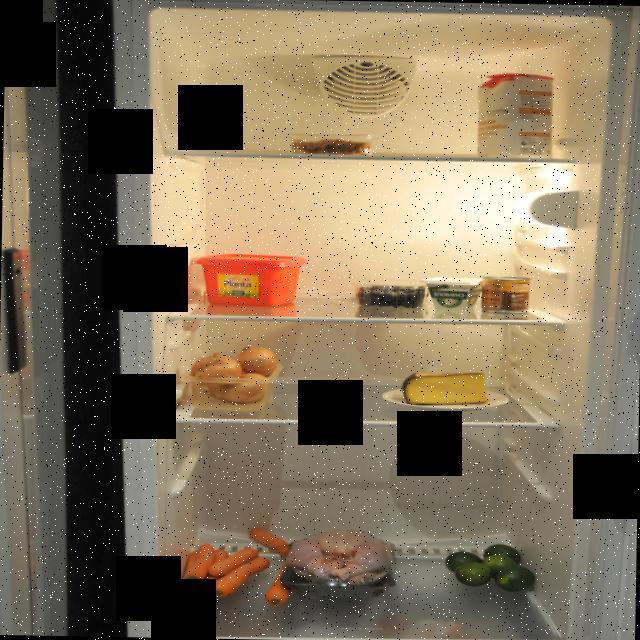blueberry: (357, 282, 427, 308)
butter: (194, 250, 306, 310)
carrot: (175, 523, 303, 609)
cheese: (402, 370, 494, 408), (419, 272, 482, 311)
chicken: (279, 528, 402, 602)
corn: (479, 275, 532, 316)
lime: (442, 542, 542, 595)
onion: (188, 342, 279, 406)
shrimp: (291, 136, 373, 158)
sugar: (471, 70, 554, 163)
